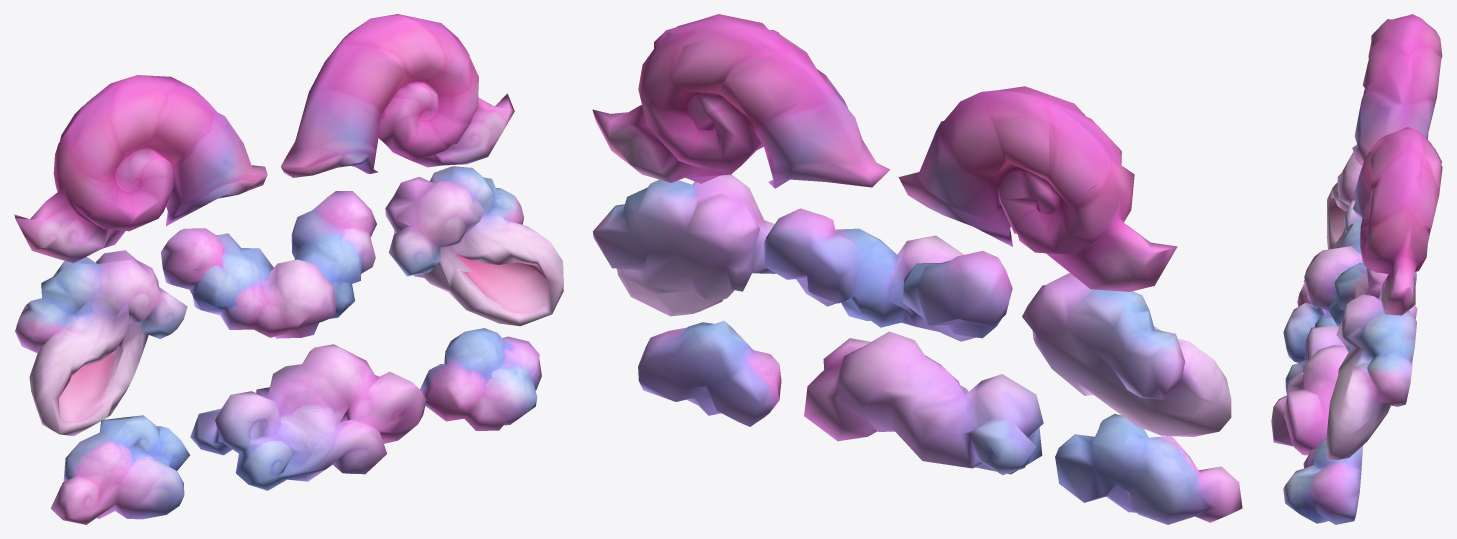
File: blue_pink.glb
The picture shows the model from 3 angles, left to right: view 1: azimuth 30°, elevation 25°; view 2: azimuth 150°, elevation 25°; view 3: azimuth 270°, elevation 25°; orthographic projection. The views are drawn at different scales.
Parts seen in each view (by area): view 1: tripo_node_ef9a398f-aa8a-4401-a188-fb0b5d403214; view 2: tripo_node_ef9a398f-aa8a-4401-a188-fb0b5d403214; view 3: tripo_node_ef9a398f-aa8a-4401-a188-fb0b5d403214.
Part boxes in pixels (x1,y1,x2,y2): tripo_node_ef9a398f-aa8a-4401-a188-fb0b5d403214: (14,14,563,524); tripo_node_ef9a398f-aa8a-4401-a188-fb0b5d403214: (592,14,1242,524); tripo_node_ef9a398f-aa8a-4401-a188-fb0b5d403214: (1271,14,1442,524).
Bounding box in the file's own units: 1 × 0.7079 × 0.3061.
1 material, 1 textured.
